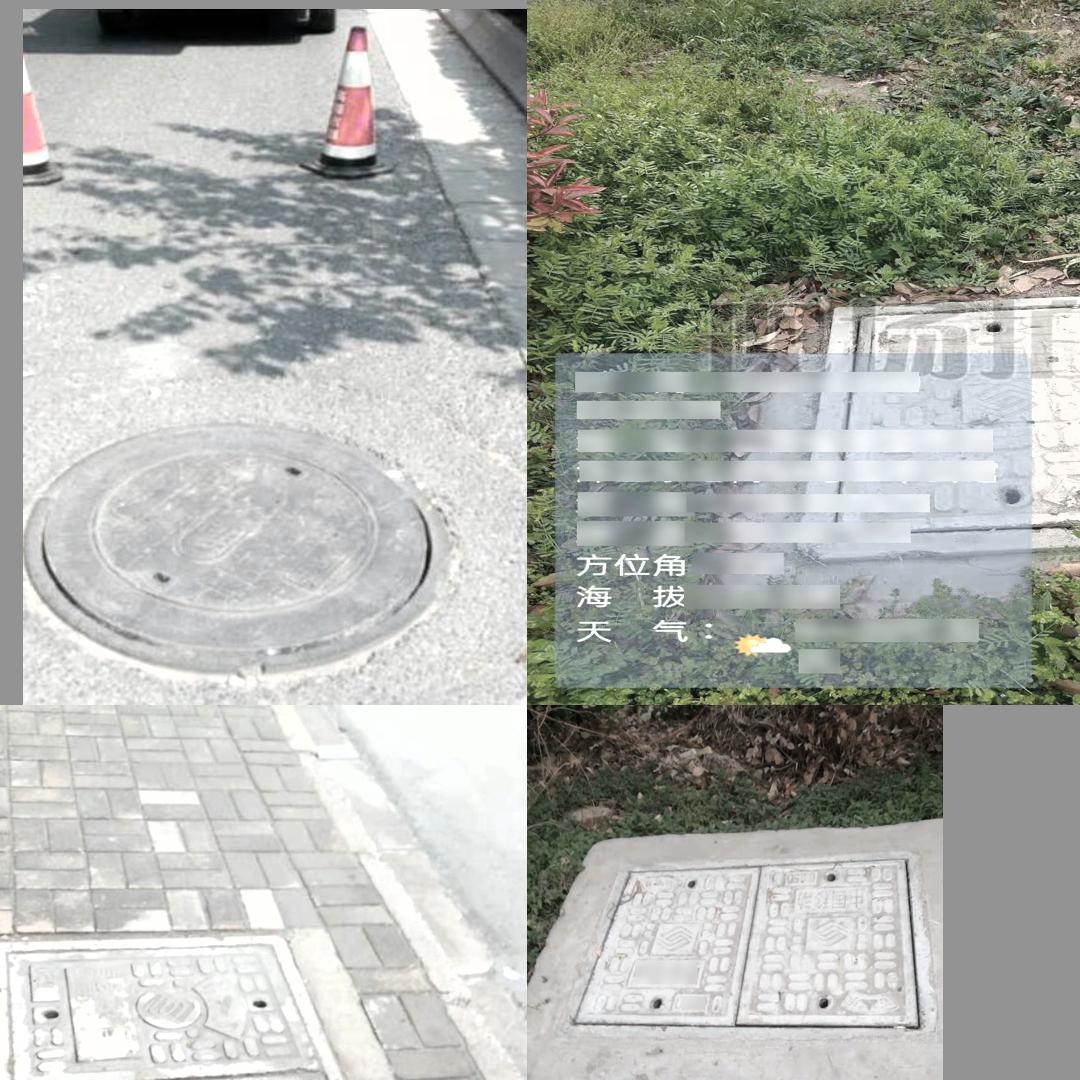good: (24, 415, 464, 677), (794, 281, 1080, 560), (0, 935, 426, 1080), (605, 854, 929, 1044)
